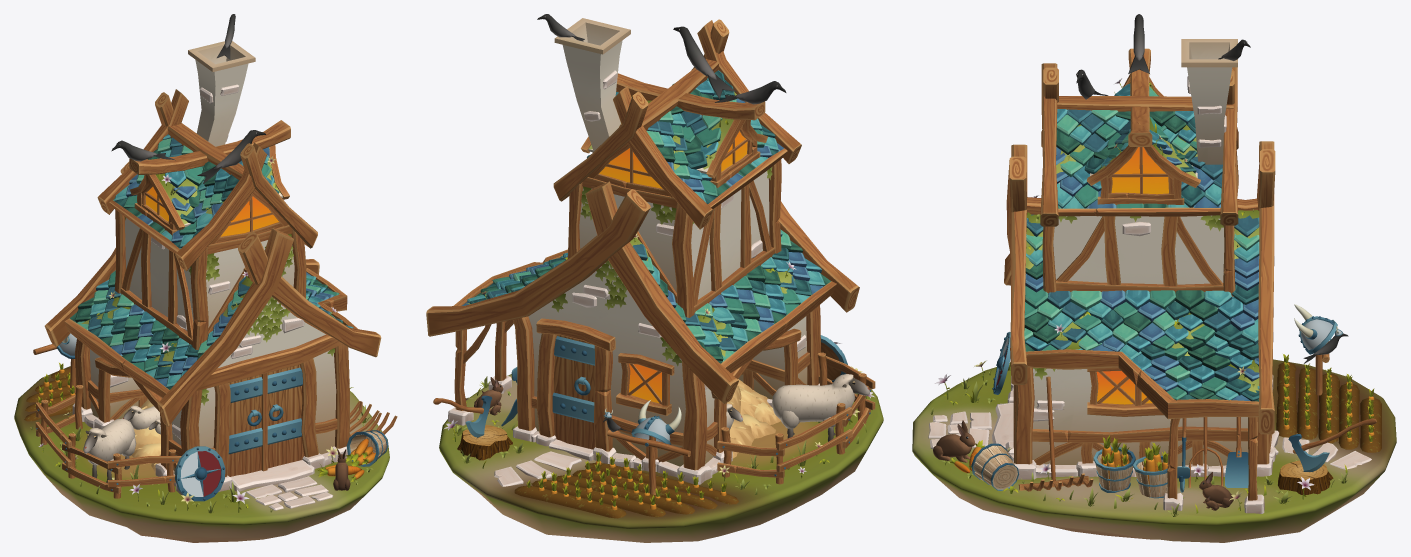
File: viking_carrot_farm_v1.glb
3 renders of one model, left to right at view 1: azimuth 30°, elevation 25°; view 2: azimuth 150°, elevation 25°; view 3: azimuth 270°, elevation 25°, orthographic. The views are drawn at different scales.
Visible parts, largest first — view 1: HouseProps_geo_01; view 2: HouseProps_geo_01; view 3: HouseProps_geo_01.
Boxes of the visible parts, x1=… form: HouseProps_geo_01: x1=14, y1=14, x2=397, y2=542; HouseProps_geo_01: x1=426, y1=14, x2=883, y2=542; HouseProps_geo_01: x1=912, y1=14, x2=1396, y2=542.
Bounding box in the file's own units: 12.76 × 17.1 × 14.75.
3 materials, 3 textured.
